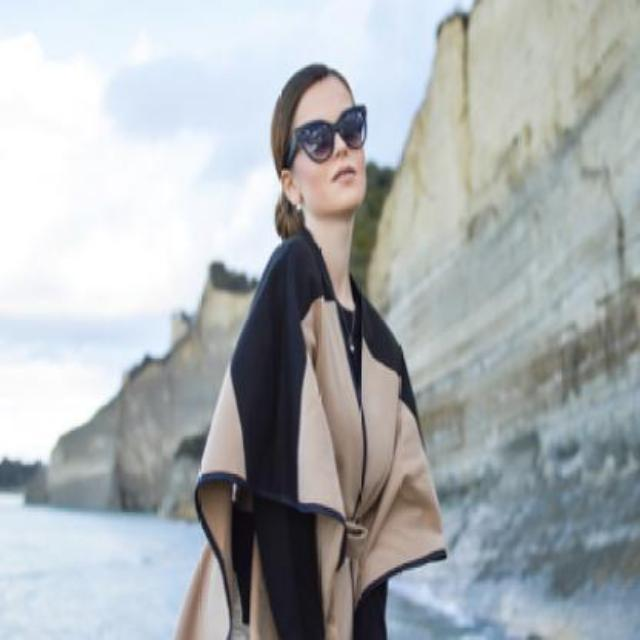sunglasses: (284, 104, 366, 166)
